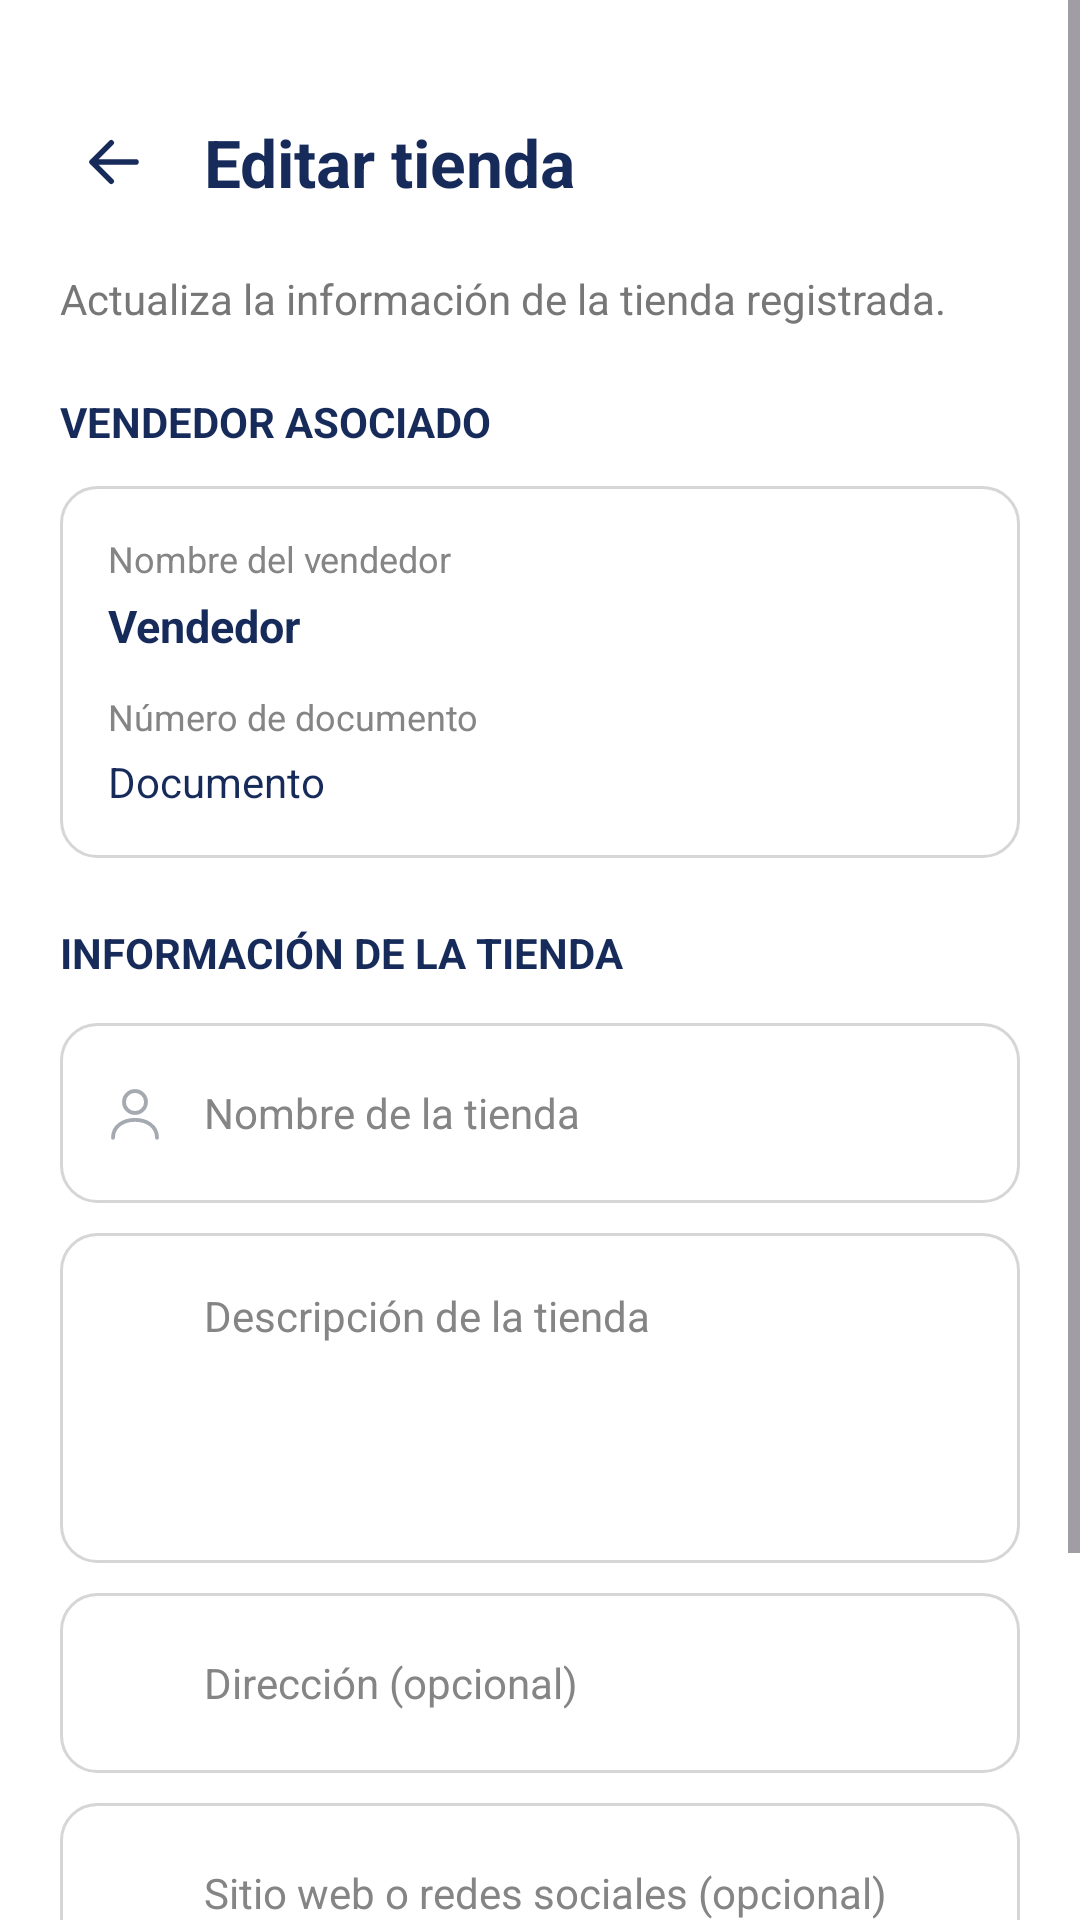

Where to tap for icons on this 1080x1920 app screen, as point (x, y):
Volver: point (114, 162)
